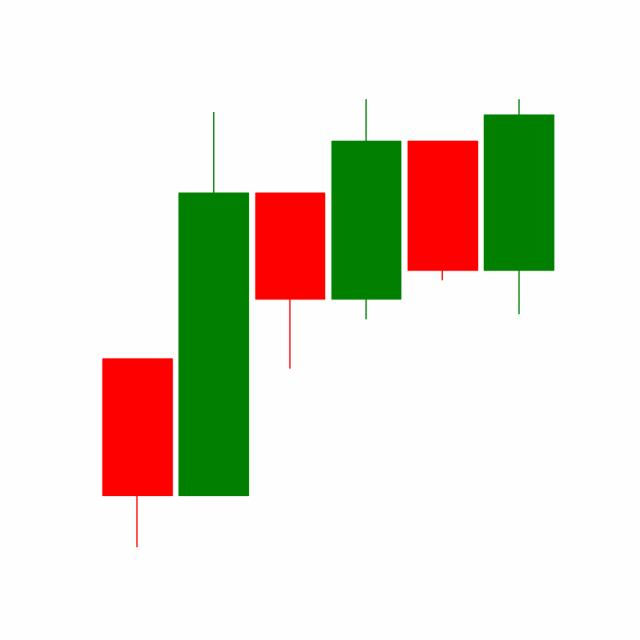Marubozu: (403, 139, 481, 282)
